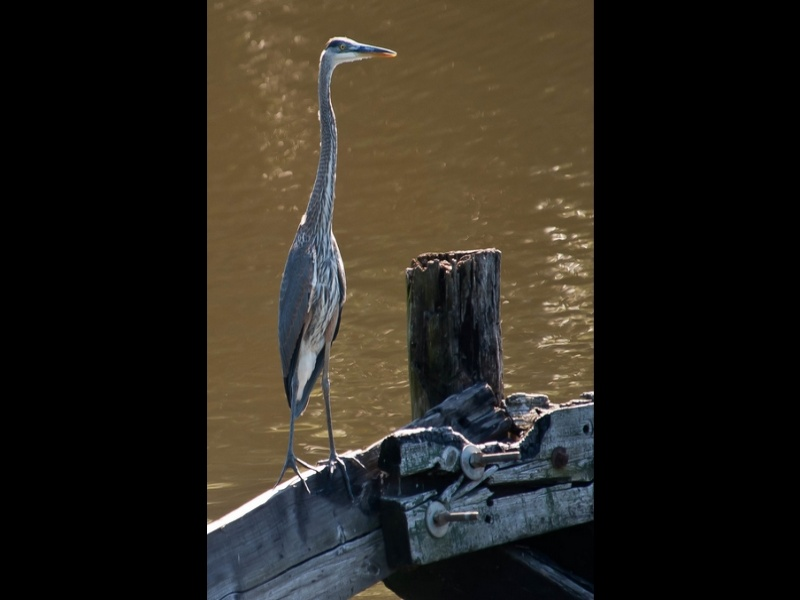heron: (267, 32, 400, 503)
